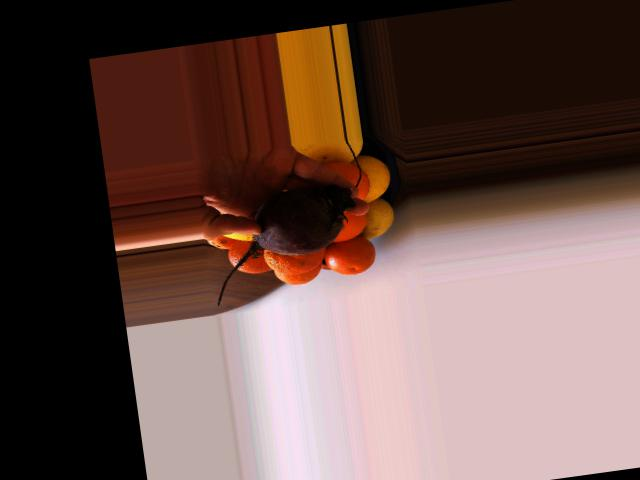beet: (203, 181, 364, 305)
